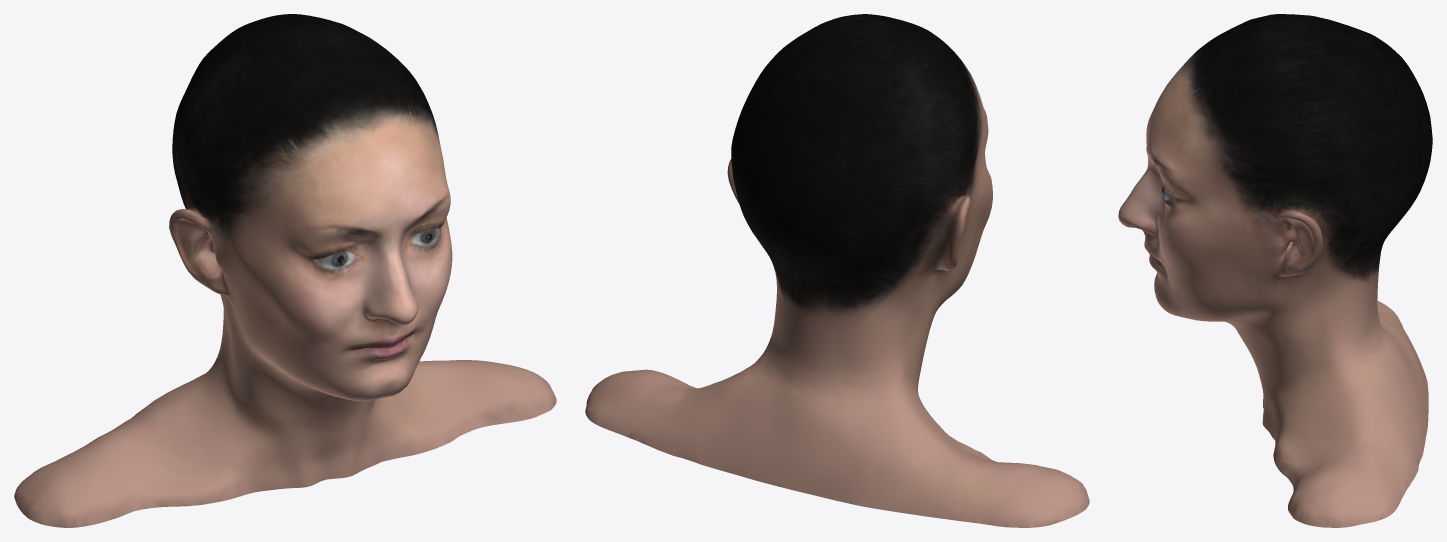
The picture shows the model from 3 angles, left to right: view 1: azimuth 30°, elevation 25°; view 2: azimuth 150°, elevation 25°; view 3: azimuth 270°, elevation 25°; orthographic projection. The views are drawn at different scales.
Visible parts, largest first — view 1: final_v4; view 2: final_v4; view 3: final_v4.
Boxes of the visible parts, x1,y1,x2,y2 form: final_v4: (14,14,556,527); final_v4: (585,14,1089,527); final_v4: (1118,14,1432,527).
Size of the model in its own units: 409 by 328 by 240.
1 material, 1 textured.
